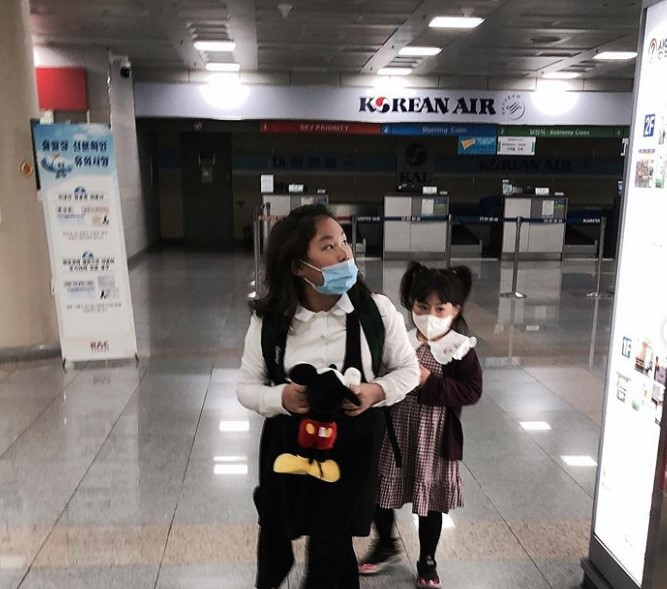face_with_mask: (281, 208, 362, 300), (409, 272, 468, 340)
